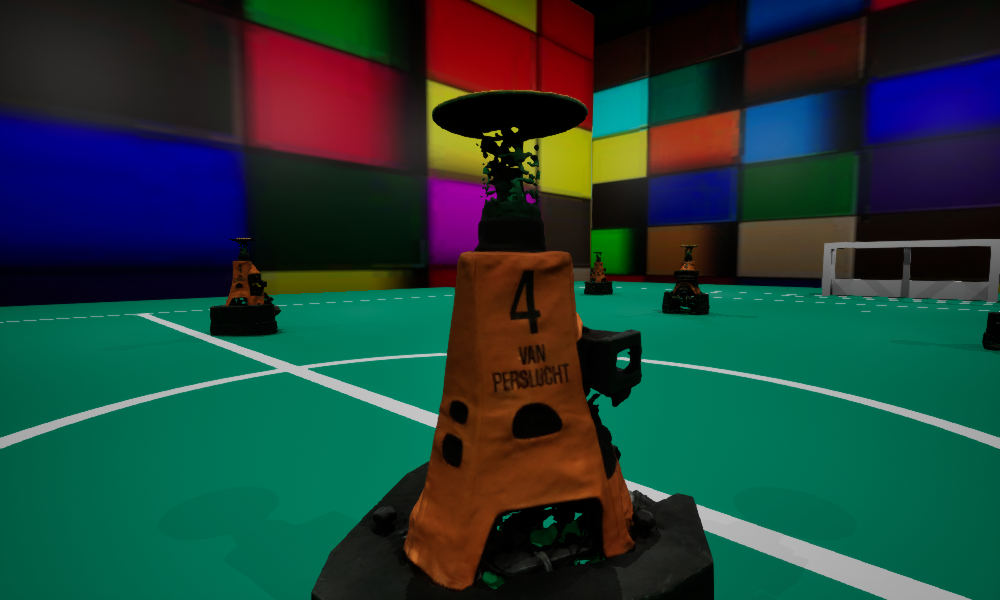0 orange robot TechUnited: (311, 90, 713, 599), (210, 238, 280, 335), (662, 245, 709, 313), (584, 252, 612, 294), (982, 312, 999, 350)
